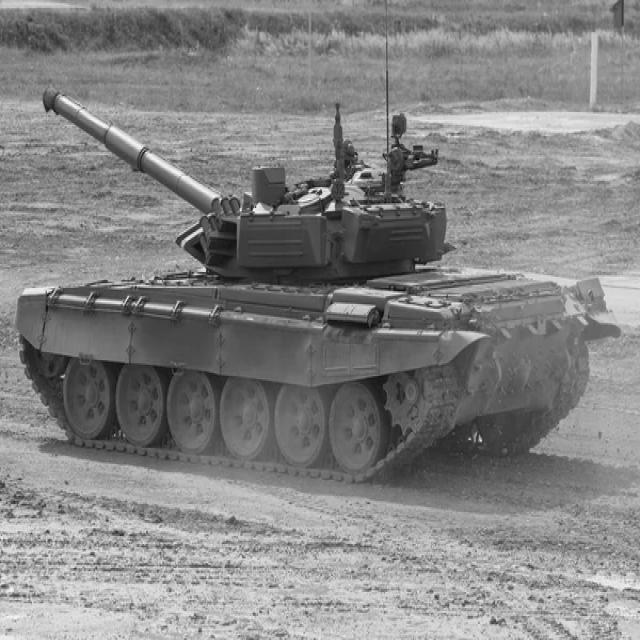Tank: (14, 75, 620, 488)
